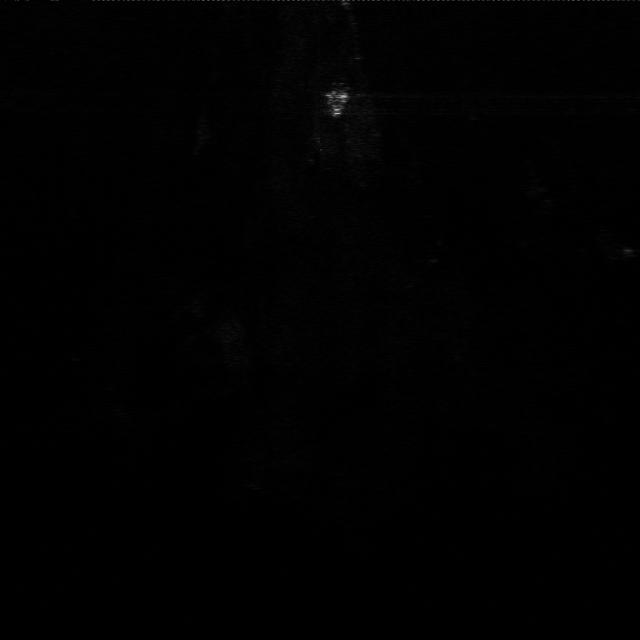rov: (317, 88, 354, 119)
